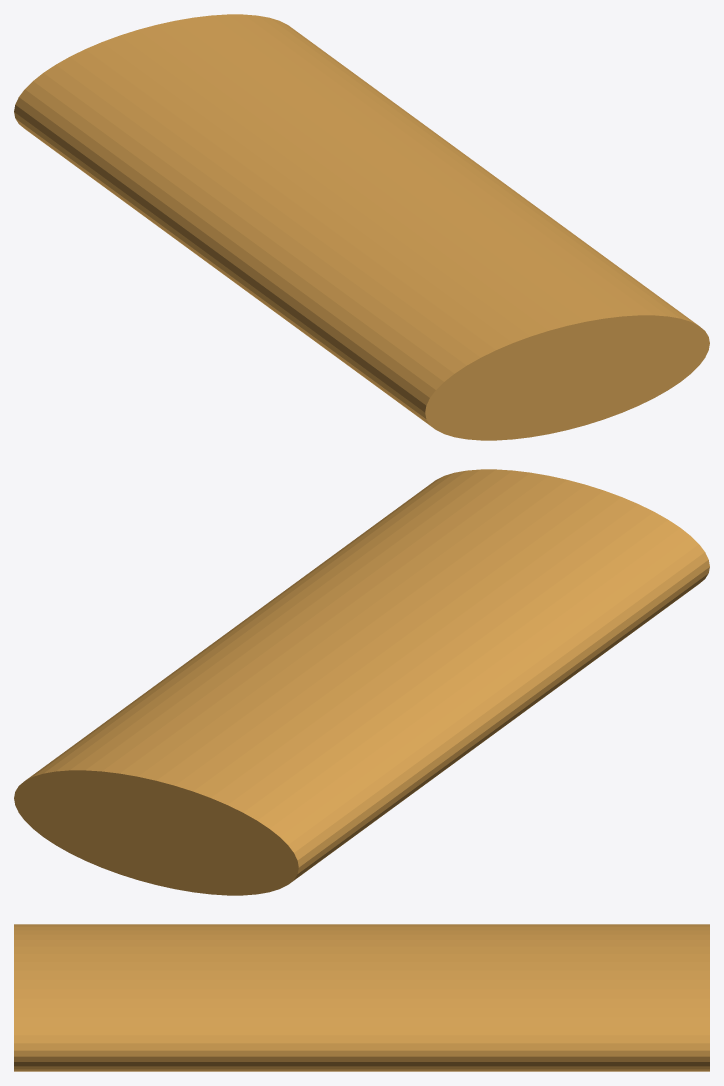
Rendered from Surprising Uusam-Hillar.glb.
3 views of the same model, one above another, from view 1: azimuth 30°, elevation 25°; view 2: azimuth 150°, elevation 25°; view 3: azimuth 270°, elevation 25° (orthographic). The views are drawn at different scales.
Visible parts, largest first — view 1: Mesh_Mesh_head_geo.001_lambert2SG.001; view 2: Mesh_Mesh_head_geo.001_lambert2SG.001; view 3: Mesh_Mesh_head_geo.001_lambert2SG.001.
Part boxes in pixels (x1,y1,x2,y2): Mesh_Mesh_head_geo.001_lambert2SG.001: [14, 14, 709, 440]; Mesh_Mesh_head_geo.001_lambert2SG.001: [14, 469, 709, 895]; Mesh_Mesh_head_geo.001_lambert2SG.001: [14, 924, 709, 1071].
Bounding box in the file's own units: 0.02 × 0.007 × 0.05.
